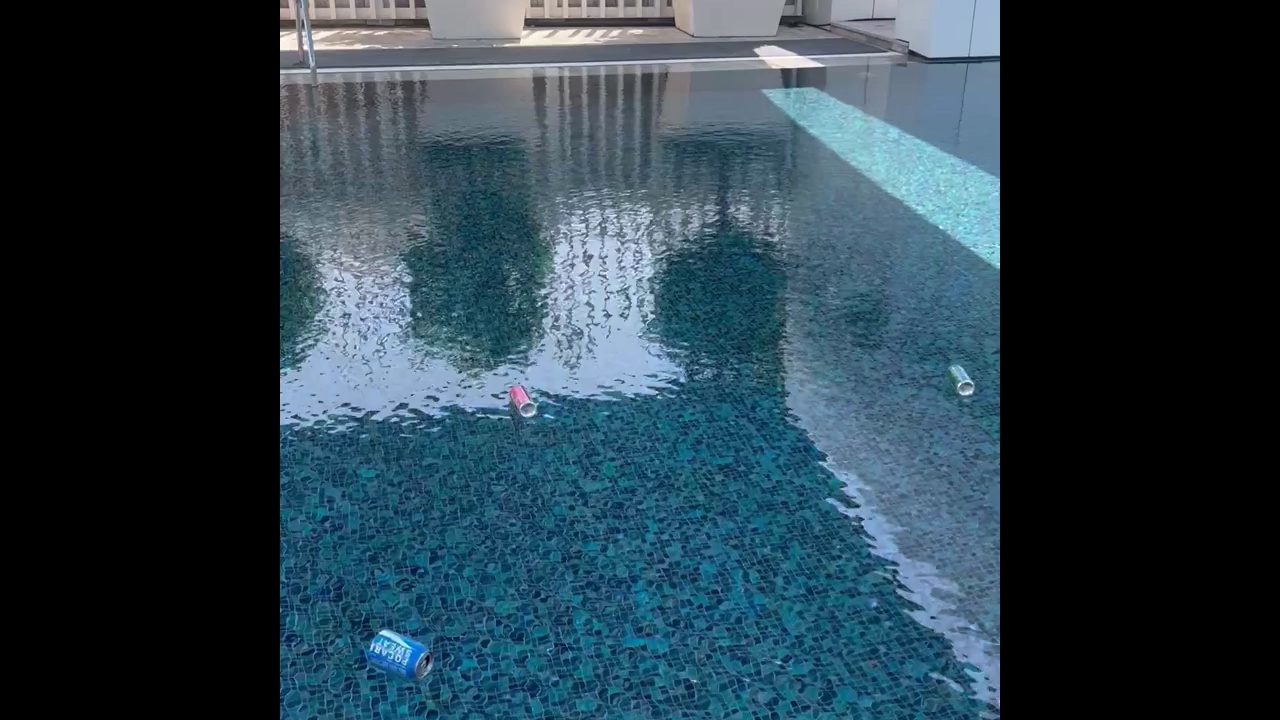debris: (363, 624, 434, 685), (503, 380, 538, 419), (944, 363, 978, 399)
